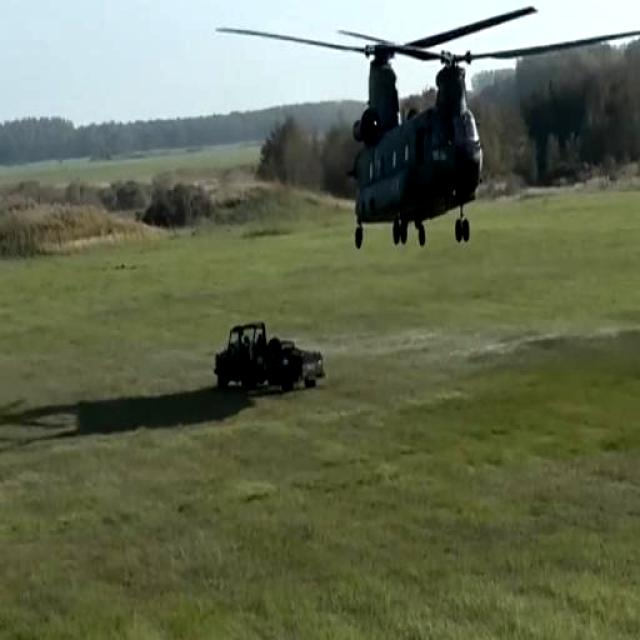drone: (261, 0, 576, 260)
